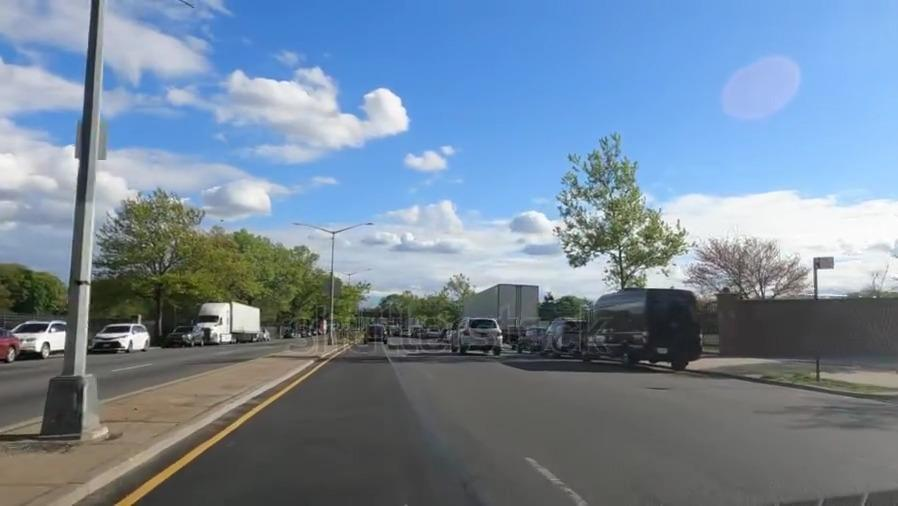car: (447, 317, 503, 355), (16, 319, 69, 357), (97, 323, 152, 352), (546, 316, 584, 354), (0, 327, 19, 363), (515, 327, 543, 350), (169, 327, 201, 347), (366, 322, 391, 345), (259, 329, 273, 340)
truck: (463, 284, 540, 324), (195, 302, 260, 342)
van: (588, 290, 702, 370)
